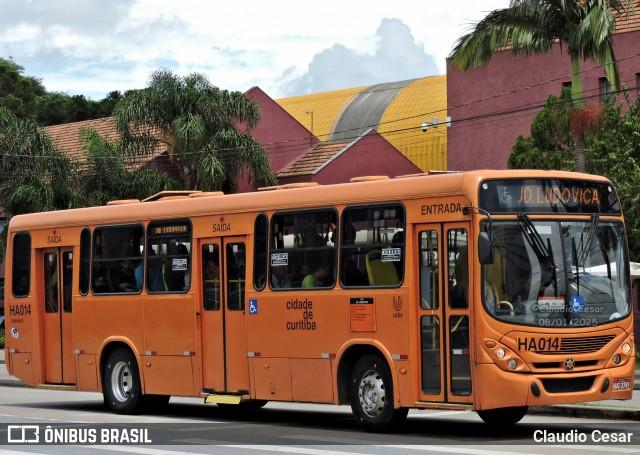JD LUDOVICA: (515, 182, 602, 210)
